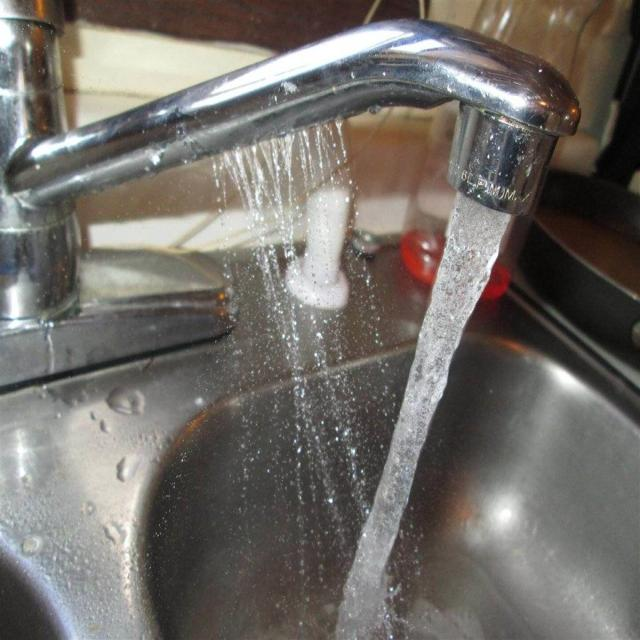leak: (208, 117, 444, 640), (323, 192, 516, 640)
